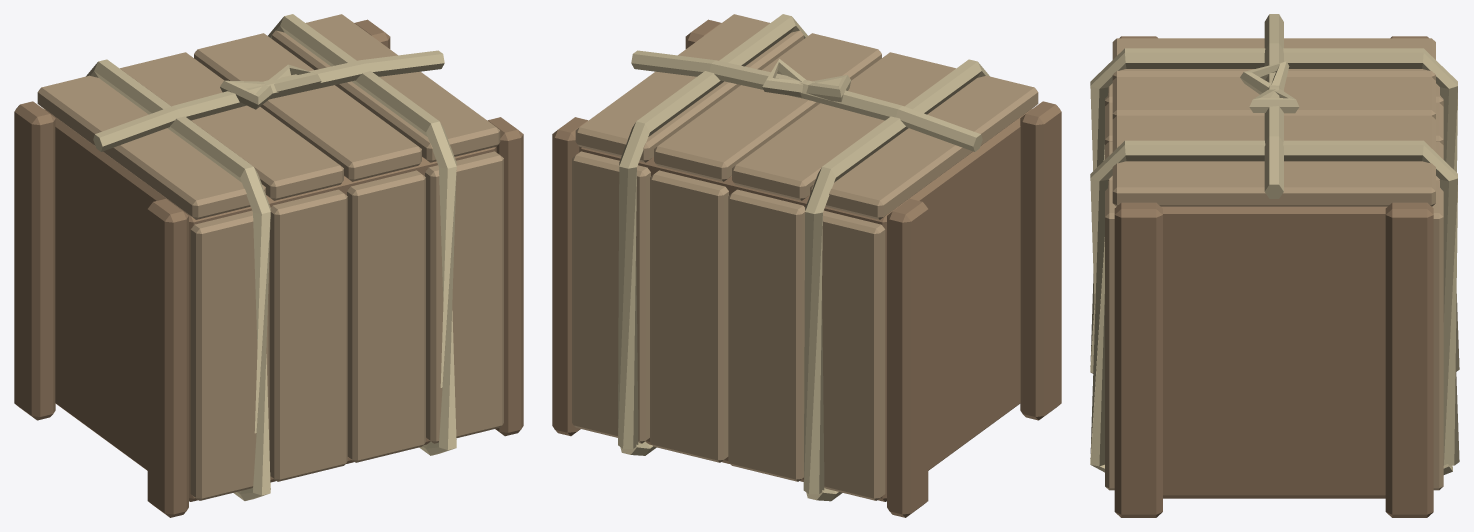
File: holm_arrival_cargo_v1.glb
3 renders of one model, left to right at view 1: azimuth 30°, elevation 25°; view 2: azimuth 150°, elevation 25°; view 3: azimuth 270°, elevation 25°, orthographic.
Parts seen in each view (by area): view 1: LandingCargoCrate_Landing_cut_oak, LandingCargoCrate_Landing_aged_oak, LandingCargoCrate_Landing_flax_rope; view 2: LandingCargoCrate_Landing_cut_oak, LandingCargoCrate_Landing_aged_oak, LandingCargoCrate_Landing_flax_rope; view 3: LandingCargoCrate_Landing_aged_oak, LandingCargoCrate_Landing_cut_oak, LandingCargoCrate_Landing_flax_rope.
Boxes of the visible parts, x1,y1,x2,y2 form: LandingCargoCrate_Landing_cut_oak: (37,14,503,500); LandingCargoCrate_Landing_aged_oak: (14,19,523,517); LandingCargoCrate_Landing_flax_rope: (86,14,456,500); LandingCargoCrate_Landing_cut_oak: (572,14,1038,500); LandingCargoCrate_Landing_aged_oak: (552,19,1061,517); LandingCargoCrate_Landing_flax_rope: (618,14,989,501); LandingCargoCrate_Landing_aged_oak: (1114,36,1433,517); LandingCargoCrate_Landing_cut_oak: (1105,38,1443,490); LandingCargoCrate_Landing_flax_rope: (1090,14,1459,474).
Bounding box in the file's own units: 0.965 × 0.8951 × 0.8447.
